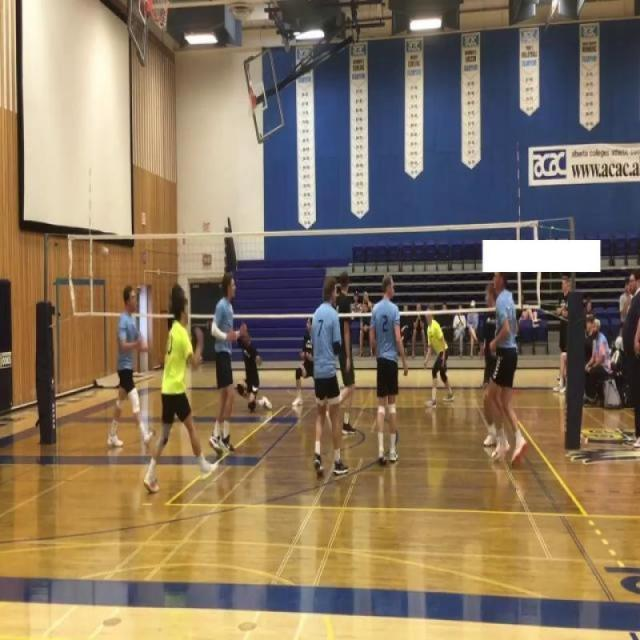volleyball: (100, 245, 110, 258), (200, 354, 203, 365)
